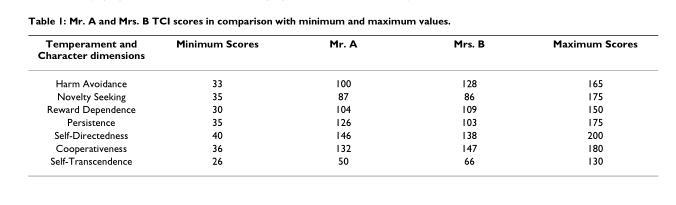table: (36, 36, 636, 166)
table column: (159, 36, 293, 166), (36, 36, 159, 166), (517, 36, 636, 166), (404, 36, 517, 166), (293, 36, 404, 166)
table column header: (36, 36, 636, 68)
table row: (36, 36, 636, 68), (36, 68, 636, 89), (36, 89, 636, 102), (36, 102, 636, 115), (36, 127, 636, 140), (36, 140, 636, 153), (36, 153, 636, 166), (36, 115, 636, 127)
